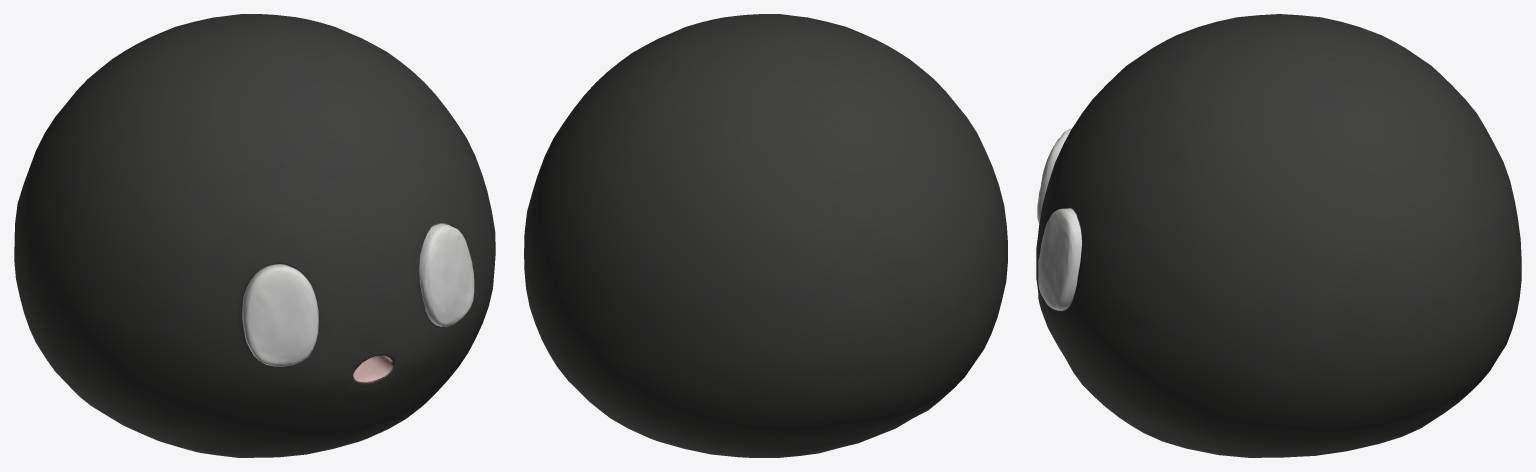
File: asset_pack_item_glb-vd7d0dcraj58ycbcm7n9arqjjx8bztjr-1-ks7c31qetdafc3wpjng52yqped8by6vd.glb
3 renders of one model, left to right at view 1: azimuth 30°, elevation 25°; view 2: azimuth 150°, elevation 25°; view 3: azimuth 270°, elevation 25°, orthographic.
Visible parts, largest first — view 1: baby; view 2: baby; view 3: baby.
Boxes of the visible parts, x1,y1,x2,y2 form: baby: (14,14,495,457); baby: (524,14,1007,457); baby: (1036,14,1521,457).
Size of the model in its own units: 0.9941 by 0.8613 by 0.998.
1 material, 1 textured.
